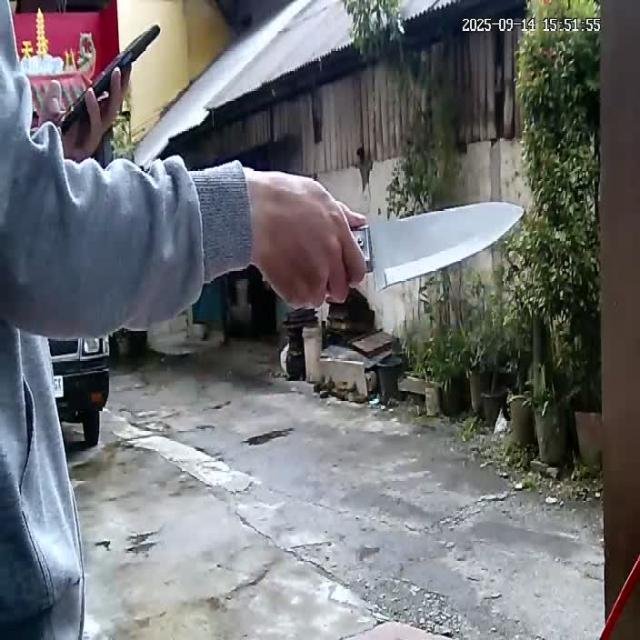senjata_tajam: (364, 198, 529, 292)
